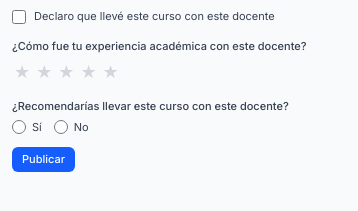
Test case: ReviewForm — publicación › con declaración y estrellas pero sin recomendación tampoco publica
Click the checkbox labelled "Declaro que llevé este curso con este docente".
click(19, 17)  # box x1=12 y1=10 x2=26 y2=24
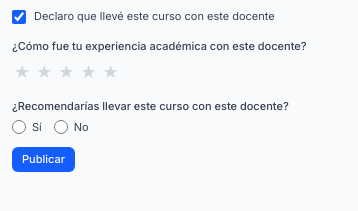
Click the radio button named "5 estrellas".
click(111, 72)  # box x1=101 y1=58 x2=121 y2=86
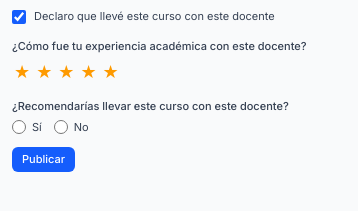
Click the button "Publicar".
click(44, 160)  # box x1=12 y1=147 x2=75 y2=172
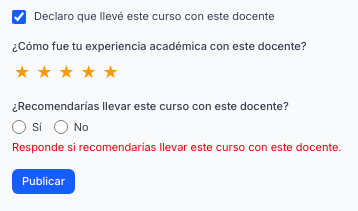
Check: the text "Responde si recomendarías llevar este curso con este docente." is shown, box x1=12 y1=140 x2=342 y2=154
